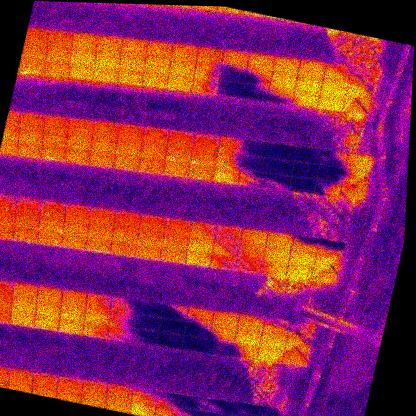Diode: (39, 142, 67, 163)
Hotspot: (37, 199, 68, 221), (164, 144, 193, 165), (36, 215, 66, 235), (190, 148, 218, 169), (19, 55, 47, 76), (35, 229, 64, 249), (11, 226, 39, 245), (84, 236, 113, 254), (0, 192, 18, 214), (0, 222, 15, 241)
Normal: (86, 206, 117, 229), (45, 28, 76, 51), (61, 204, 93, 226), (318, 76, 350, 98), (55, 374, 84, 398), (105, 383, 134, 407), (113, 209, 142, 233), (138, 212, 167, 236), (13, 196, 44, 218), (31, 371, 60, 394), (80, 379, 109, 402), (292, 88, 321, 111), (95, 33, 124, 56), (120, 36, 149, 59), (5, 367, 35, 389), (265, 230, 295, 252), (70, 32, 100, 54), (268, 69, 298, 91), (294, 73, 324, 95), (246, 51, 276, 73), (272, 55, 302, 77), (92, 117, 121, 139), (142, 124, 171, 146), (141, 69, 170, 91), (165, 71, 194, 93), (317, 91, 346, 113), (59, 288, 89, 309), (115, 122, 145, 143), (18, 109, 46, 131), (211, 308, 240, 329), (236, 312, 265, 333), (285, 261, 314, 282), (262, 244, 291, 265), (163, 217, 192, 238), (42, 113, 71, 134), (166, 128, 195, 149), (192, 131, 221, 152), (68, 47, 97, 68), (297, 58, 326, 79), (220, 48, 250, 68), (87, 148, 115, 169), (137, 154, 165, 175), (92, 63, 120, 84), (171, 41, 199, 62), (256, 345, 285, 365), (58, 302, 87, 322), (35, 285, 64, 305), (159, 245, 188, 265), (288, 248, 317, 268), (240, 226, 269, 246), (212, 165, 241, 185), (67, 116, 96, 136), (67, 60, 96, 80), (93, 50, 122, 70), (32, 312, 61, 332), (10, 281, 40, 300), (64, 145, 91, 166), (146, 40, 173, 61), (109, 238, 137, 258), (184, 248, 212, 268), (161, 160, 189, 180), (16, 125, 44, 145), (41, 128, 69, 148), (90, 133, 118, 153), (346, 152, 374, 172), (169, 58, 197, 78), (9, 295, 38, 314), (259, 331, 288, 350), (133, 243, 162, 262), (12, 212, 41, 231), (187, 234, 216, 253), (186, 163, 215, 182), (138, 141, 167, 160), (8, 309, 37, 328), (16, 139, 42, 160), (24, 26, 50, 47), (113, 152, 140, 172), (115, 137, 142, 157), (117, 66, 144, 86), (43, 46, 73, 64), (234, 326, 262, 345), (63, 220, 91, 239), (136, 230, 164, 249), (44, 59, 72, 78), (118, 53, 146, 72), (81, 320, 109, 339), (34, 300, 63, 318), (59, 234, 88, 252), (111, 226, 140, 244), (56, 317, 85, 335), (66, 131, 93, 150), (21, 42, 48, 61), (197, 45, 224, 64), (161, 232, 189, 250), (144, 55, 172, 73), (82, 308, 111, 325), (86, 224, 115, 241), (0, 208, 17, 227), (0, 277, 15, 296), (0, 363, 11, 385), (0, 293, 13, 311), (0, 306, 12, 323)
Shadow: (214, 148, 245, 171), (216, 134, 247, 157), (286, 319, 316, 342), (188, 219, 218, 242), (84, 291, 114, 313), (237, 167, 267, 189), (338, 181, 368, 203), (243, 139, 273, 161), (265, 85, 296, 106), (130, 387, 159, 409), (241, 82, 270, 104), (239, 153, 269, 174), (265, 156, 295, 177), (268, 142, 298, 163), (319, 148, 349, 169), (237, 241, 266, 262), (262, 172, 291, 193), (288, 174, 317, 195), (313, 178, 342, 199), (342, 95, 371, 116), (193, 60, 222, 81), (345, 80, 374, 101), (134, 298, 164, 318), (259, 258, 289, 278), (314, 251, 344, 271), (317, 238, 347, 258), (234, 255, 262, 276), (215, 224, 243, 245), (156, 391, 184, 412), (295, 144, 323, 165), (191, 75, 219, 96), (245, 67, 273, 88), (349, 64, 377, 85), (231, 340, 260, 360), (183, 320, 212, 340), (181, 394, 210, 414), (291, 160, 320, 180), (341, 166, 370, 186), (311, 266, 341, 285), (316, 164, 346, 183), (209, 323, 237, 343), (186, 305, 214, 325), (209, 251, 237, 271), (216, 79, 244, 99), (219, 63, 247, 83), (180, 334, 208, 354), (205, 337, 234, 356), (281, 350, 310, 369), (132, 313, 161, 332), (158, 316, 187, 335), (285, 336, 314, 355), (110, 296, 139, 315), (160, 302, 189, 321), (291, 234, 320, 253), (323, 63, 352, 82), (213, 238, 240, 258), (108, 310, 136, 329), (262, 318, 290, 337), (207, 397, 235, 416), (105, 324, 133, 343), (130, 327, 158, 346), (155, 331, 184, 349), (231, 400, 261, 416), (257, 403, 286, 416), (178, 407, 207, 416), (203, 411, 232, 416), (228, 414, 257, 416)
